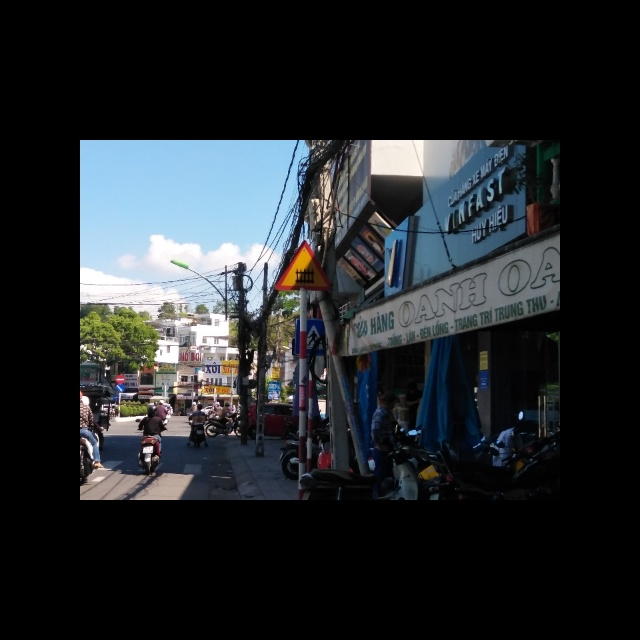Giao nhau với đường sắt có rào chắn: (274, 238, 335, 290)
